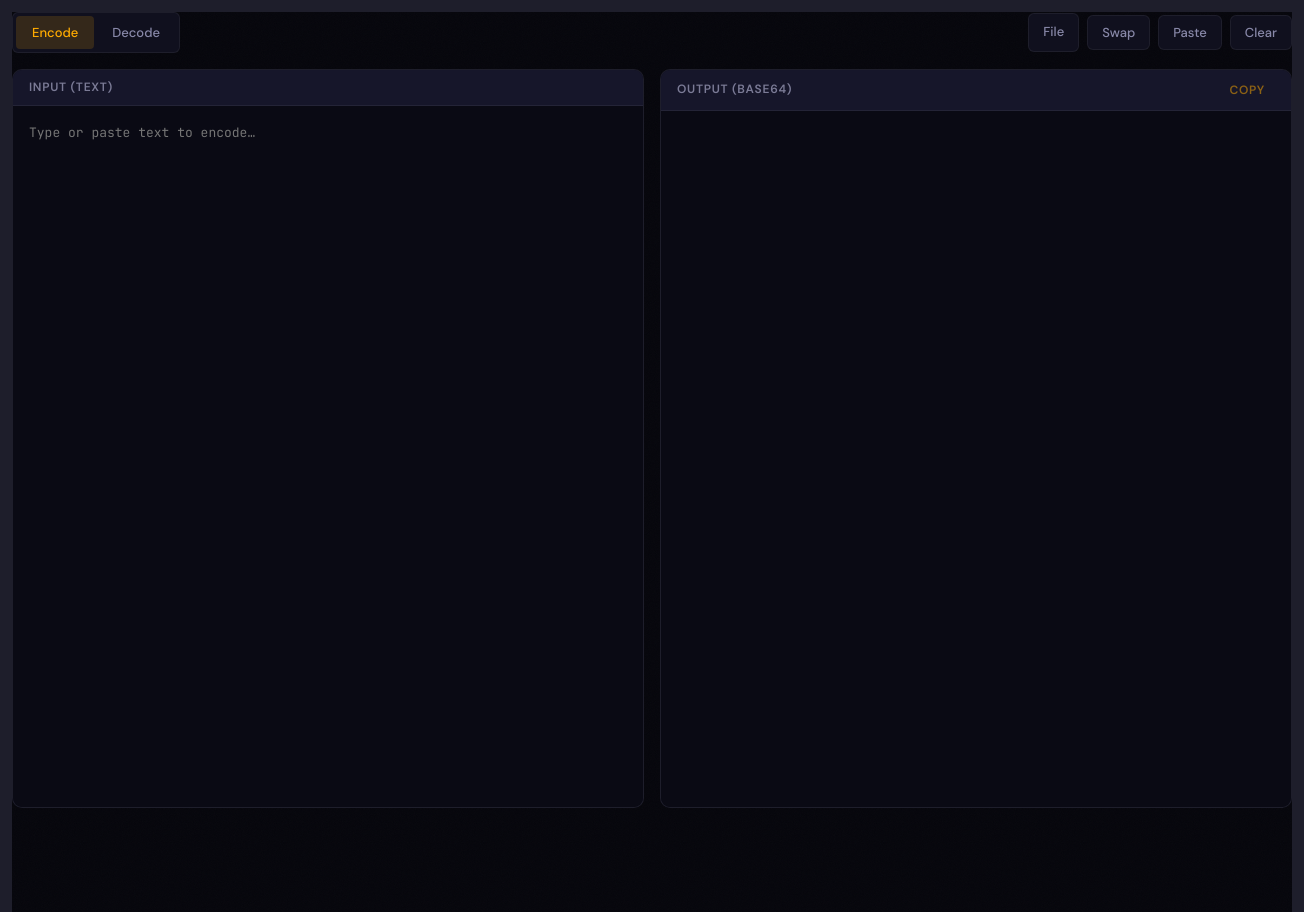
Scenario: Base64Codec › clears input and output when clear is clicked
Type "test" into the text box named "text input". click: point(328, 457)
box: [13,106,643,807]
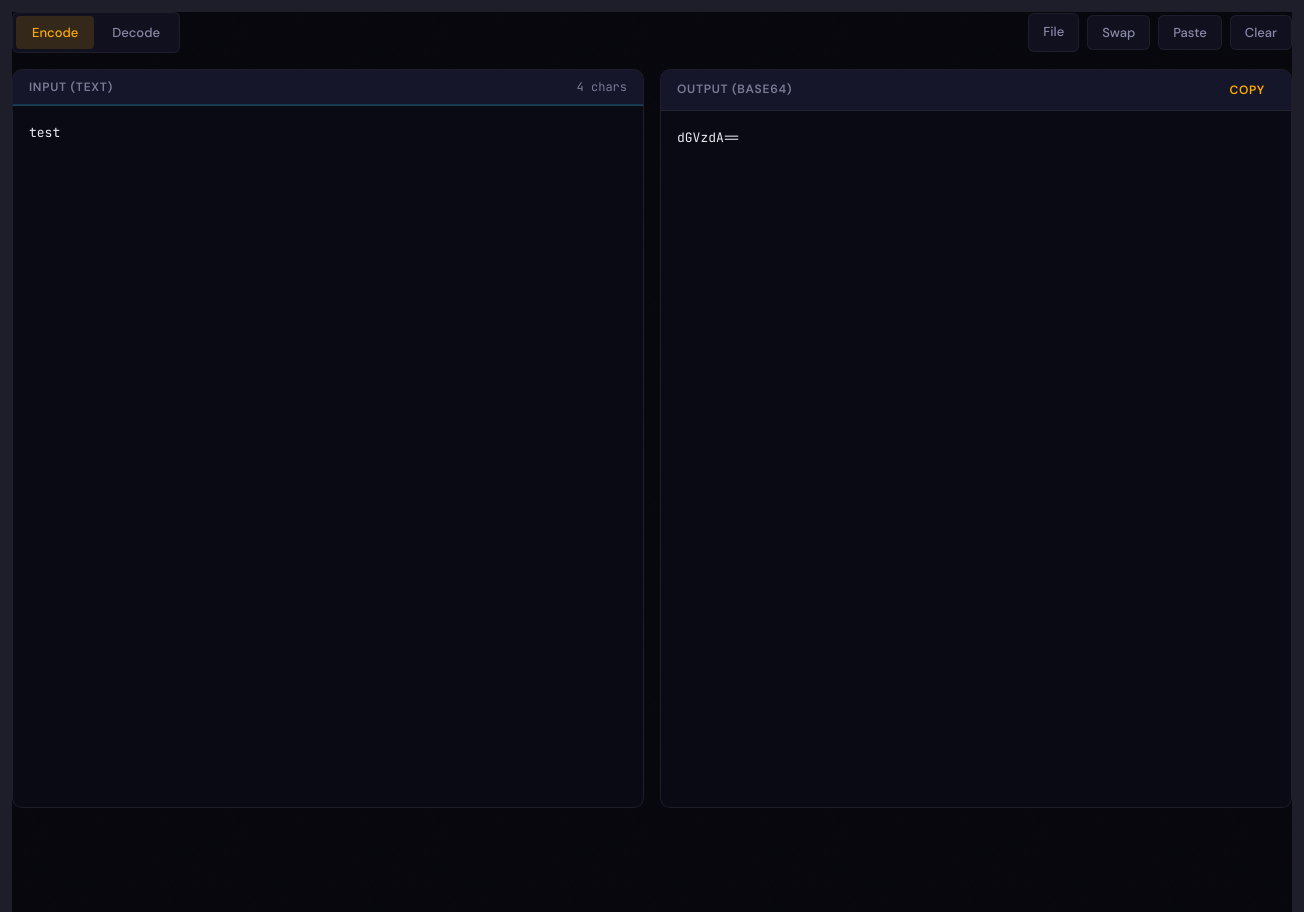
Click the button "Clear". click: point(1261, 32)
box: [1230,15,1292,50]
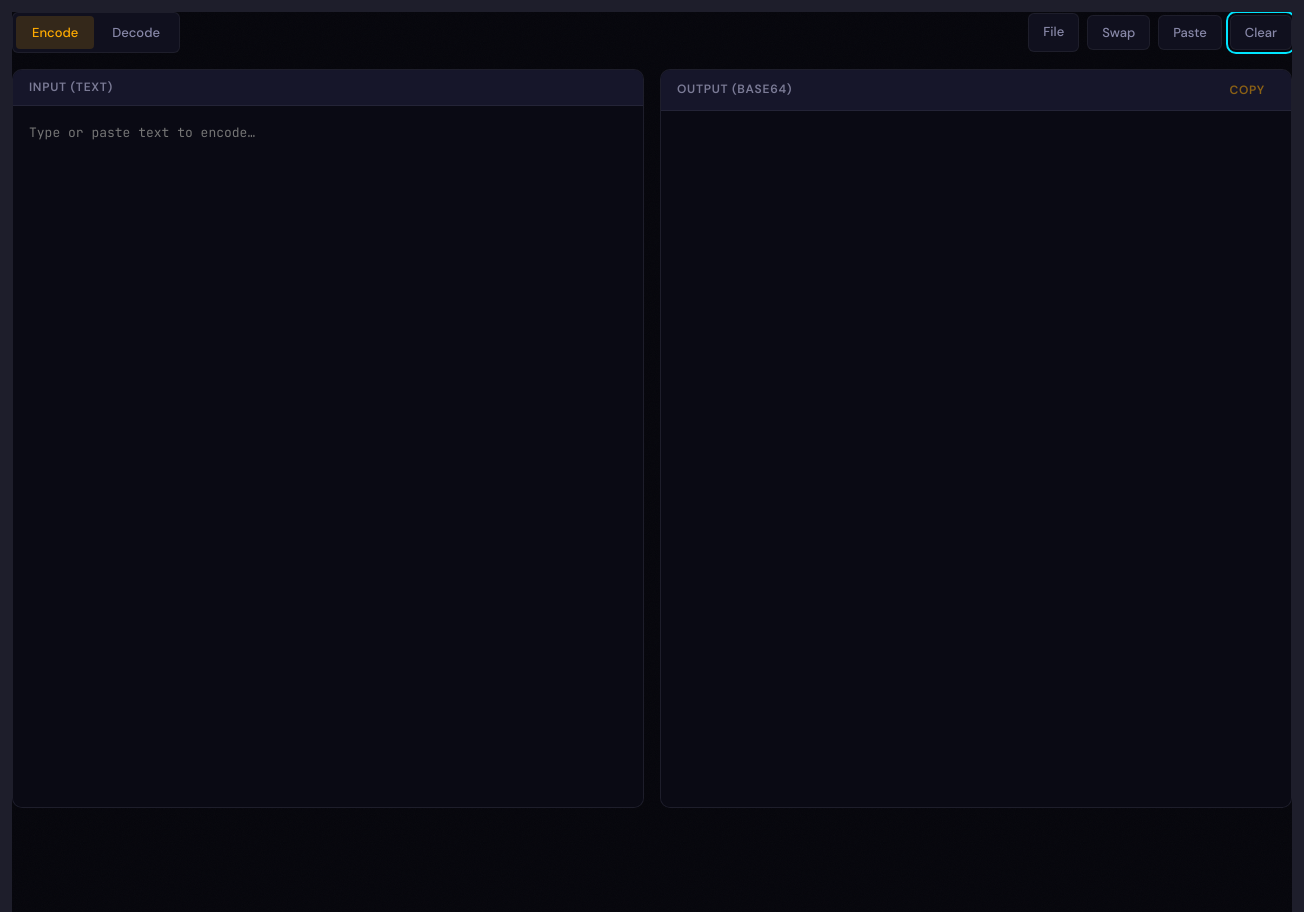
Now the text box named "text input" is empty, box [13,106,643,807]
Now the text box named "base64 output" is empty, box [661,111,1291,807]
